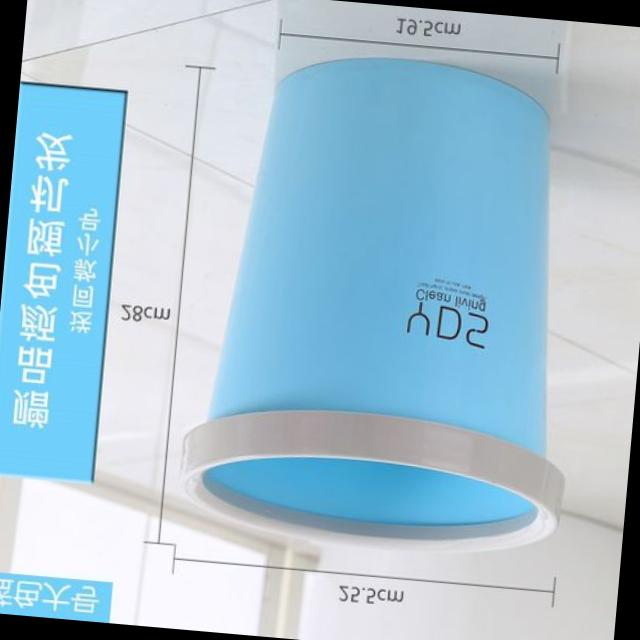dustbin: (168, 33, 612, 576)
